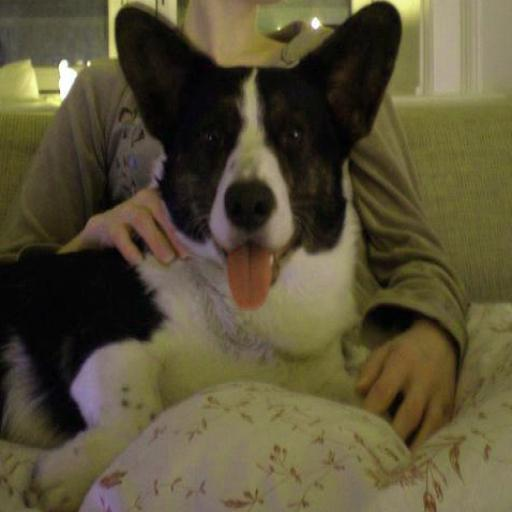dog_face: (115, 0, 390, 269)
